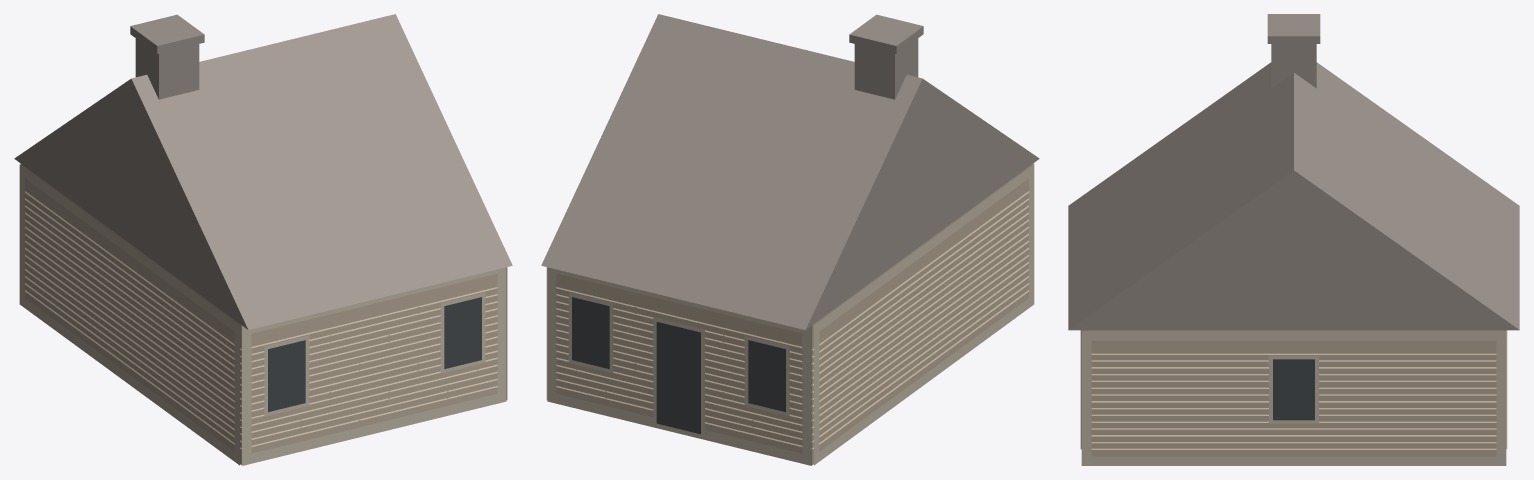
The model's file is inf_teamster_dwelling_west__inferred_1835.glb.
3 renders of one model, left to right at view 1: azimuth 30°, elevation 25°; view 2: azimuth 150°, elevation 25°; view 3: azimuth 270°, elevation 25°, orthographic. The views are drawn at different scales.
Visible parts, largest first — view 1: inf_teamster_dwelling_west__inferred_1835; view 2: inf_teamster_dwelling_west__inferred_1835; view 3: inf_teamster_dwelling_west__inferred_1835.
Part boxes in pixels (x1=…): inf_teamster_dwelling_west__inferred_1835: x1=14, y1=14, x2=512, y2=465; inf_teamster_dwelling_west__inferred_1835: x1=541, y1=14, x2=1039, y2=465; inf_teamster_dwelling_west__inferred_1835: x1=1068, y1=14, x2=1519, y2=465.
Bounding box in the file's own units: 5.57 × 6.85 × 8.43.
